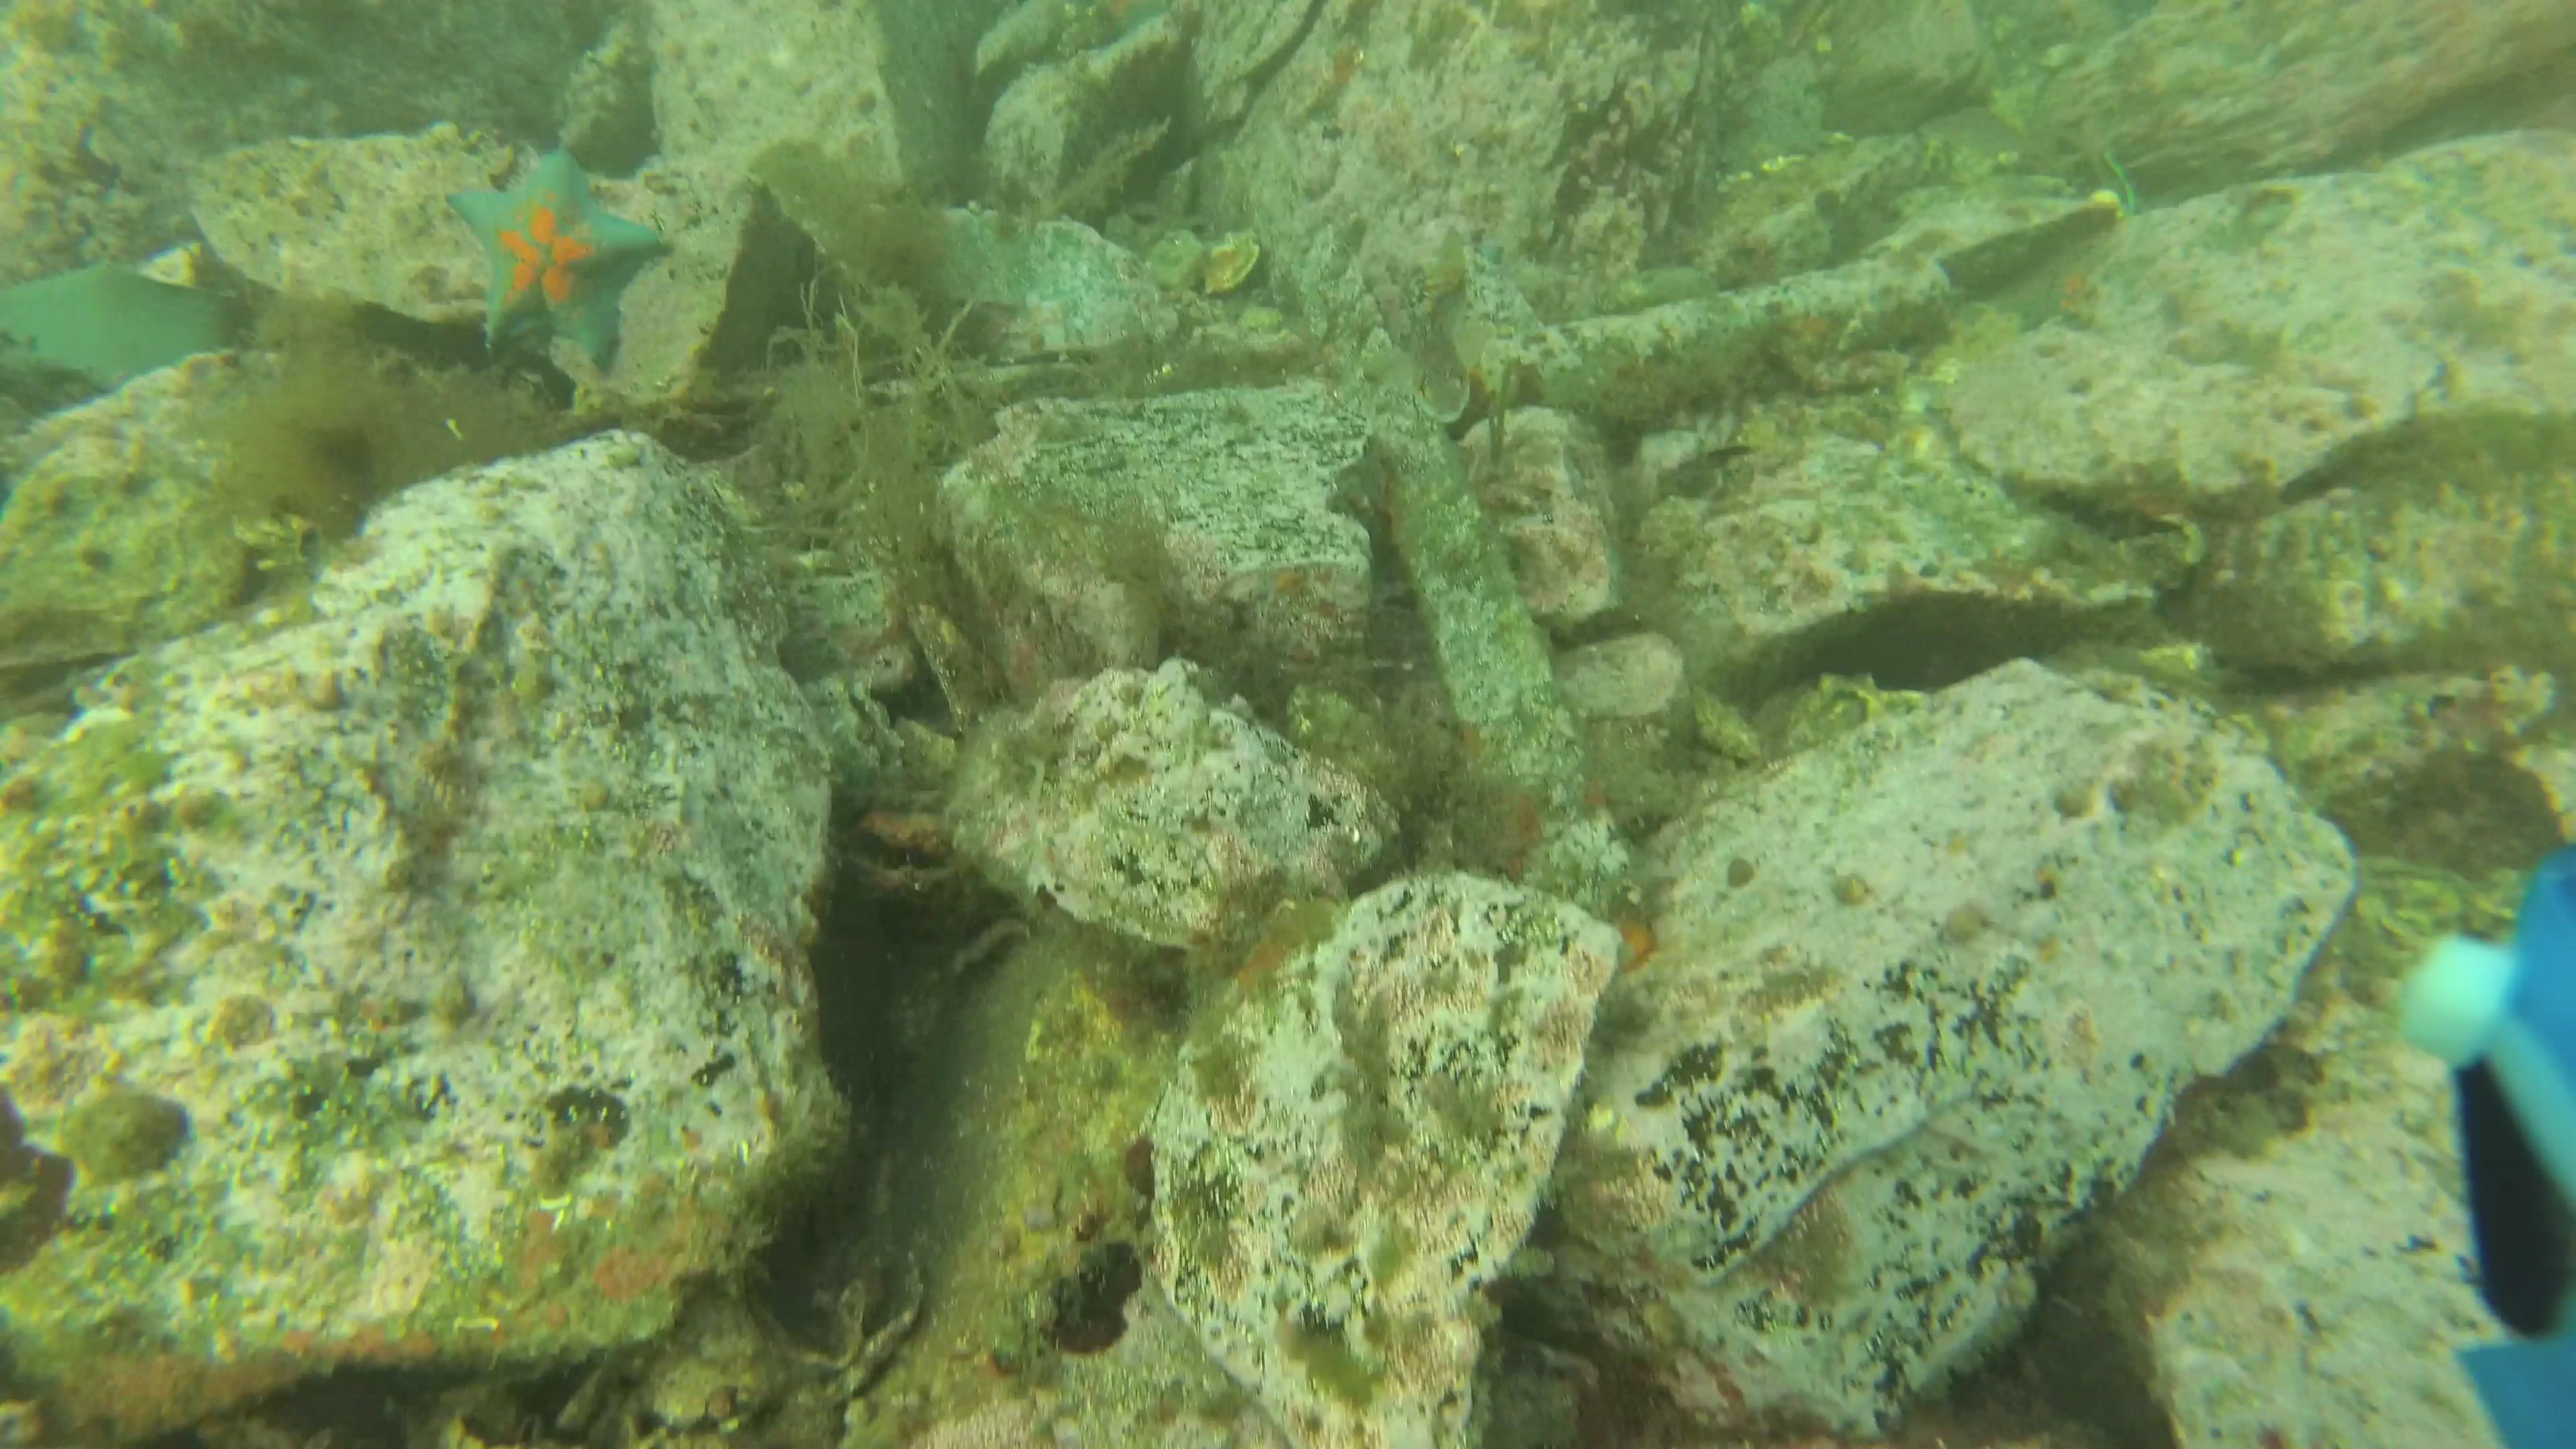holothurian: (701, 1067, 863, 1224)
starfish: (441, 136, 669, 368)
